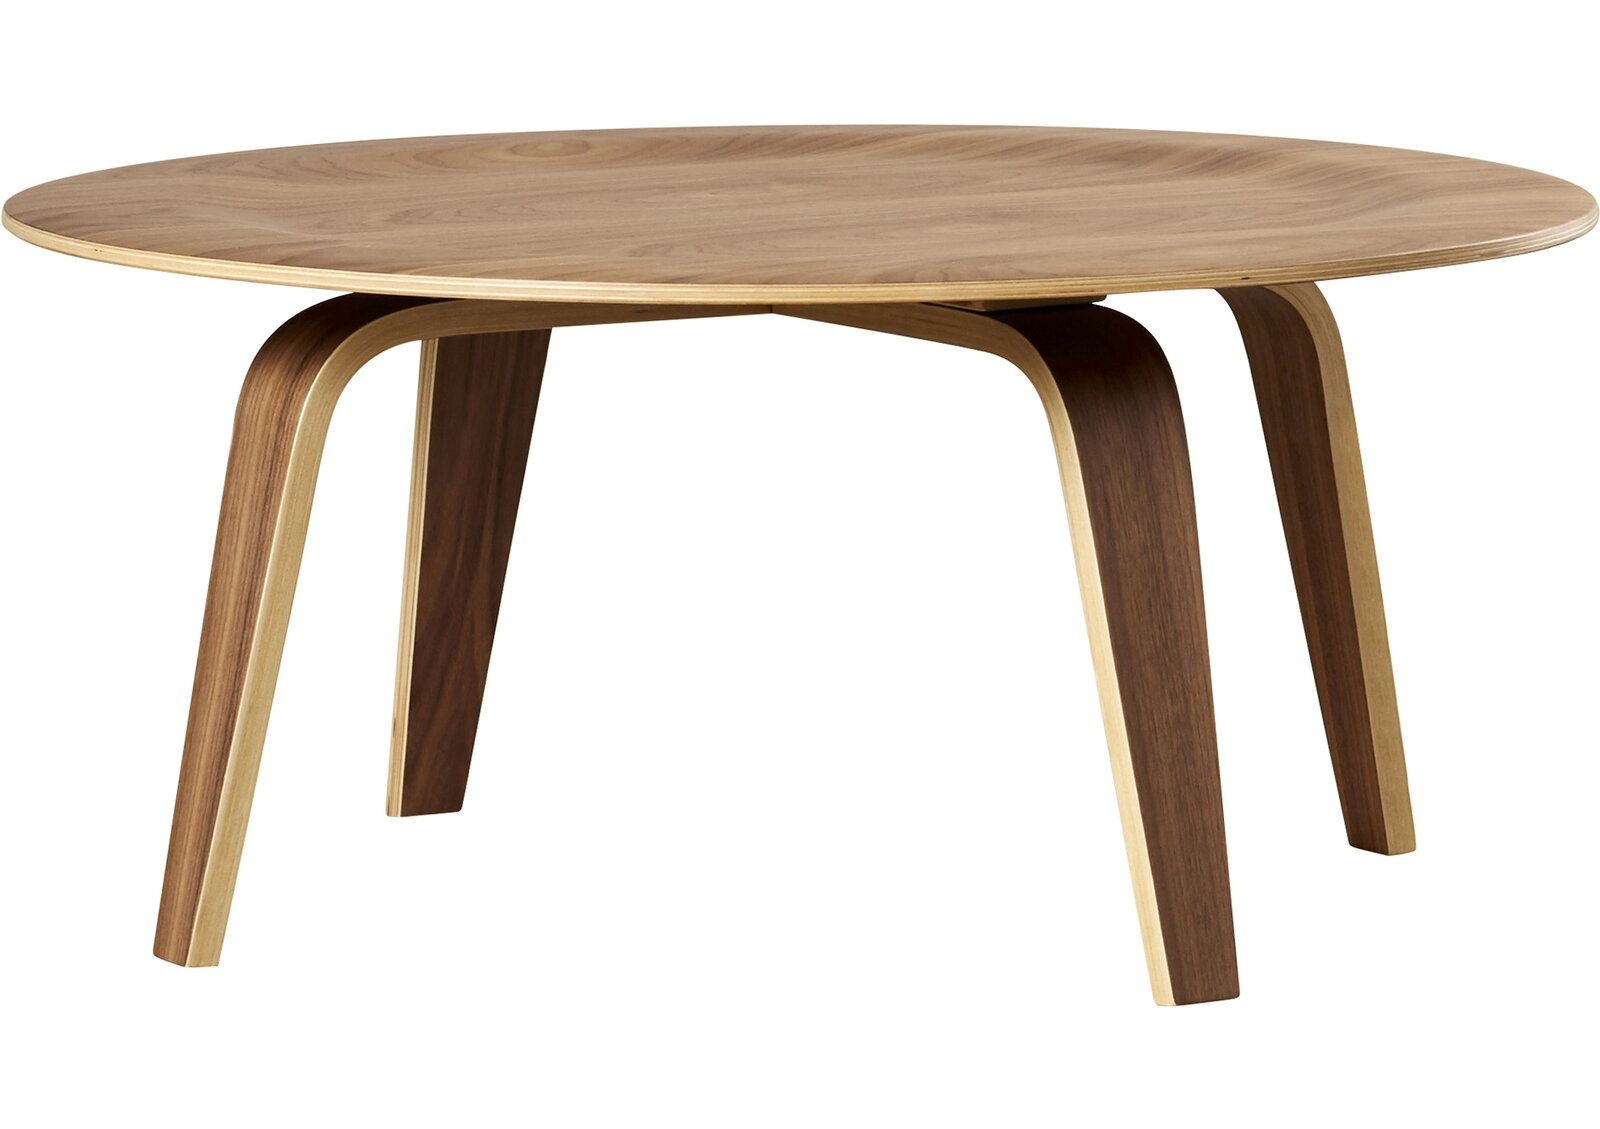obstacle: (5, 126, 1595, 1004)
